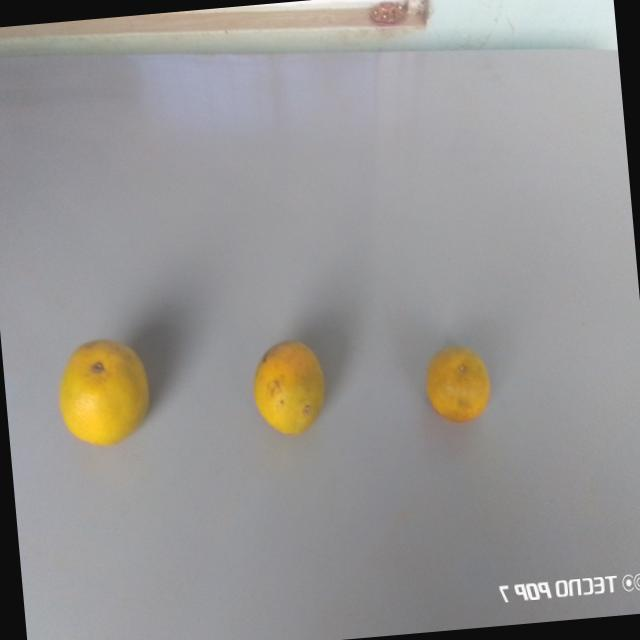Ripe orange: (52, 332, 159, 451), (246, 328, 332, 443), (419, 342, 500, 437)
